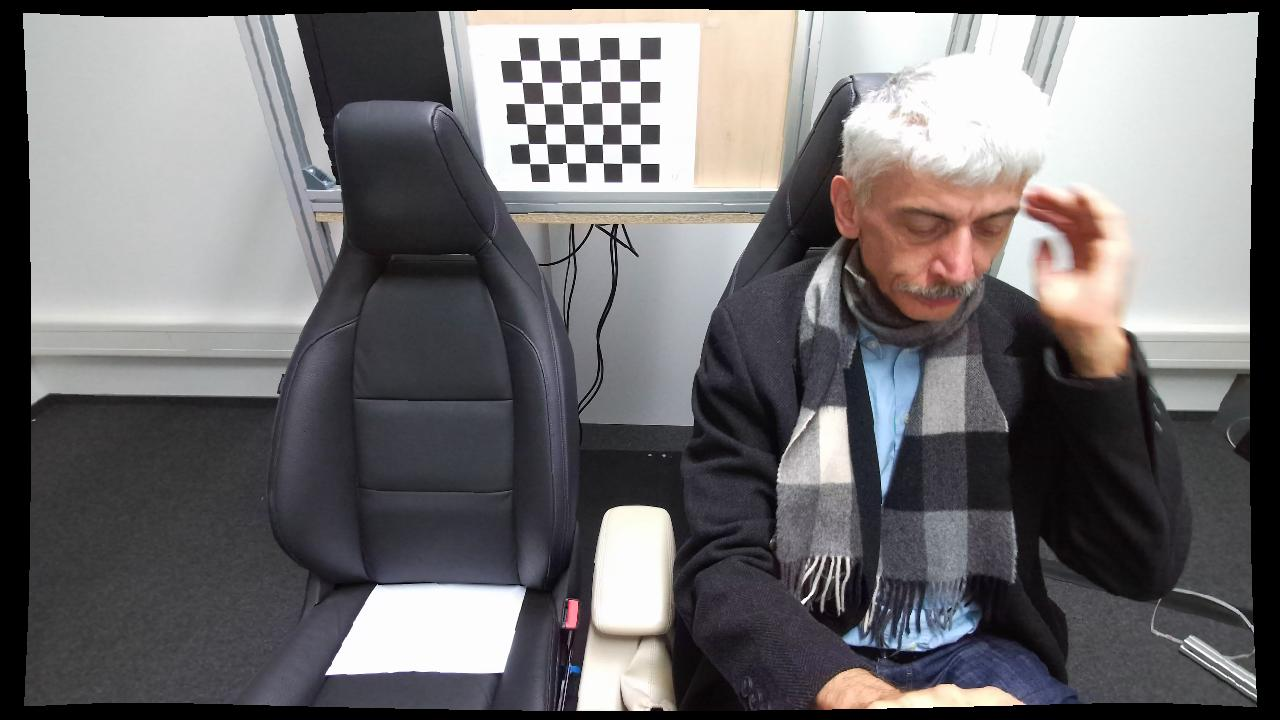Distracted: (677, 38, 1193, 712)
